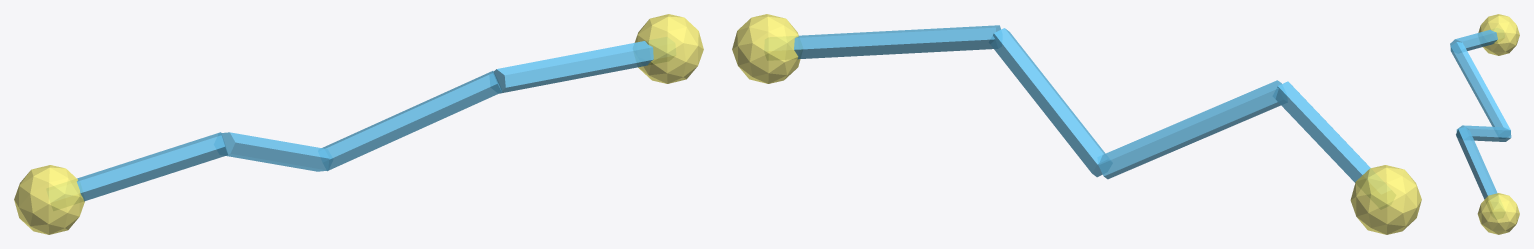
Rendered from vfx_chain_lightning_arc.glb.
The picture shows the model from 3 angles, left to right: view 1: azimuth 30°, elevation 25°; view 2: azimuth 150°, elevation 25°; view 3: azimuth 270°, elevation 25°; orthographic projection. The views are drawn at different scales.
Parts seen in each view (by area): view 1: chain_2, chain_3, chain_0, node_l, node_r, chain_1; view 2: chain_1, chain_3, chain_2, node_l, node_r, chain_0; view 3: chain_1, node_r, node_l, chain_3, chain_2, chain_0.
Boxes of the visible parts, x1,y1,x2,y2 form: chain_2: [321, 71, 501, 171]; chain_3: [493, 41, 653, 93]; chain_0: [76, 132, 227, 201]; node_l: [14, 165, 84, 234]; node_r: [634, 14, 703, 83]; chain_1: [221, 132, 329, 171]; chain_1: [1098, 80, 1281, 179]; chain_3: [794, 25, 1000, 59]; chain_2: [990, 28, 1105, 177]; node_l: [1350, 165, 1421, 234]; node_r: [732, 14, 800, 83]; chain_0: [1275, 81, 1370, 182]; chain_1: [1450, 42, 1510, 130]; node_r: [1477, 193, 1519, 234]; node_l: [1478, 14, 1519, 55]; chain_3: [1456, 127, 1497, 199]; chain_2: [1456, 125, 1511, 141]; chain_0: [1450, 30, 1497, 50].
Size of the model in its own units: 2.2 by 0.3126 by 0.3306.
